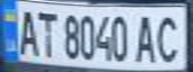0: (109, 11, 133, 63), (78, 10, 96, 61)
4: (93, 11, 115, 61)
8: (60, 9, 81, 60)
A: (12, 5, 42, 57), (133, 11, 160, 64)
C: (151, 10, 187, 64)
T: (33, 7, 57, 58)
